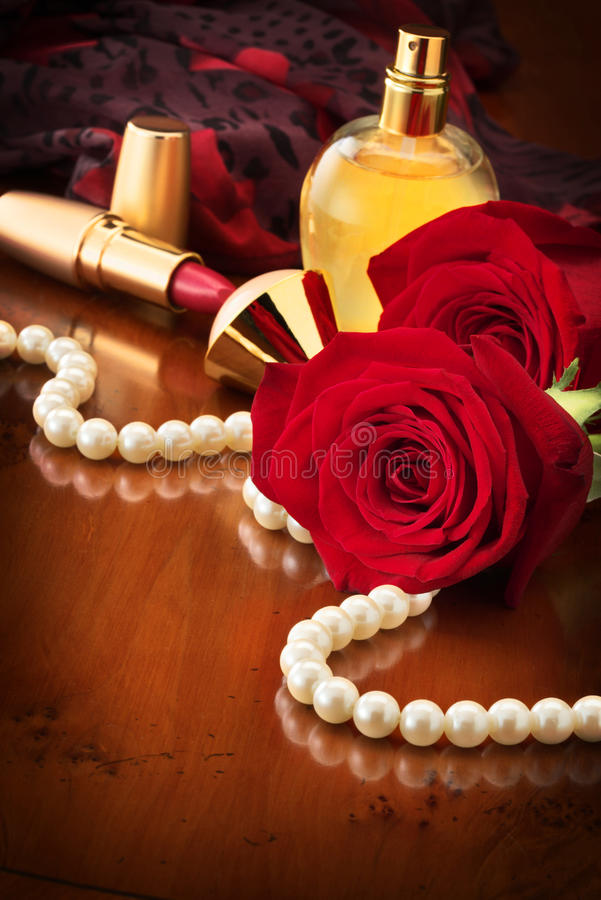RedRose: (212, 305, 601, 668)
